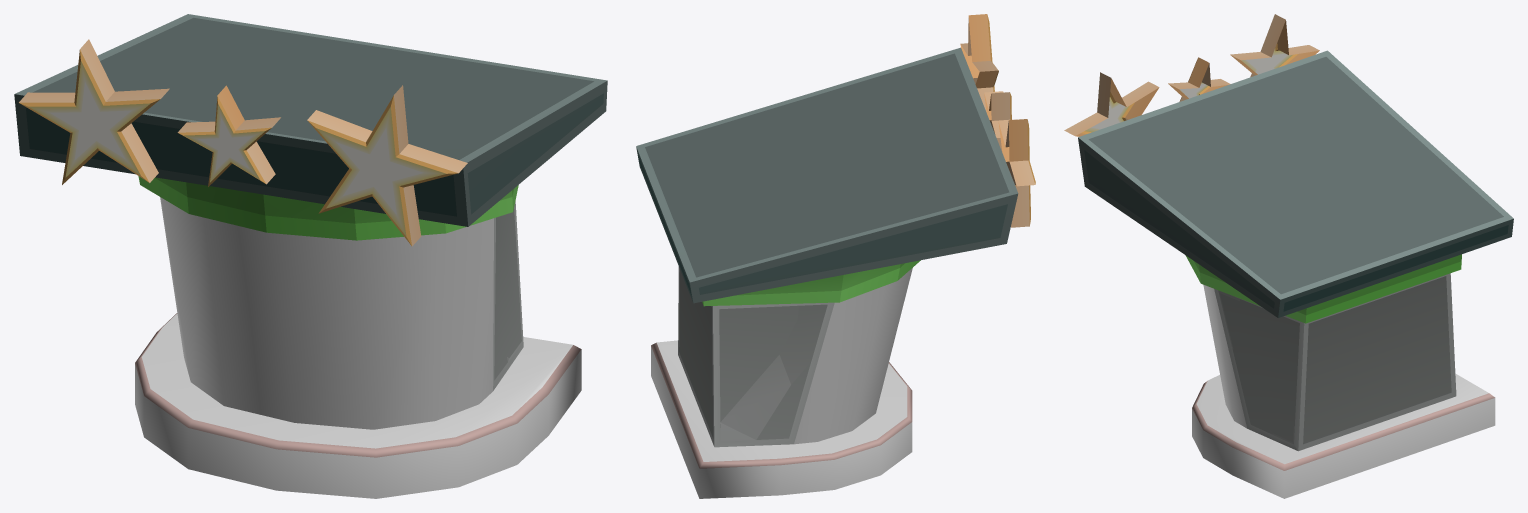
Rendered from RestaurantPodium.fbx.
3 renders of one model, left to right at view 1: azimuth 30°, elevation 25°; view 2: azimuth 150°, elevation 25°; view 3: azimuth 270°, elevation 25°, orthographic. The views are drawn at different scales.
Visible parts, largest first — view 1: RestaurantPodium; view 2: RestaurantPodium; view 3: RestaurantPodium.
Part boxes in pixels (bbox=[...]): RestaurantPodium: bbox=[14, 14, 607, 498]; RestaurantPodium: bbox=[636, 14, 1035, 498]; RestaurantPodium: bbox=[1064, 14, 1513, 498].
Size of the model in its own units: 90.98 by 72.62 by 92.51.
